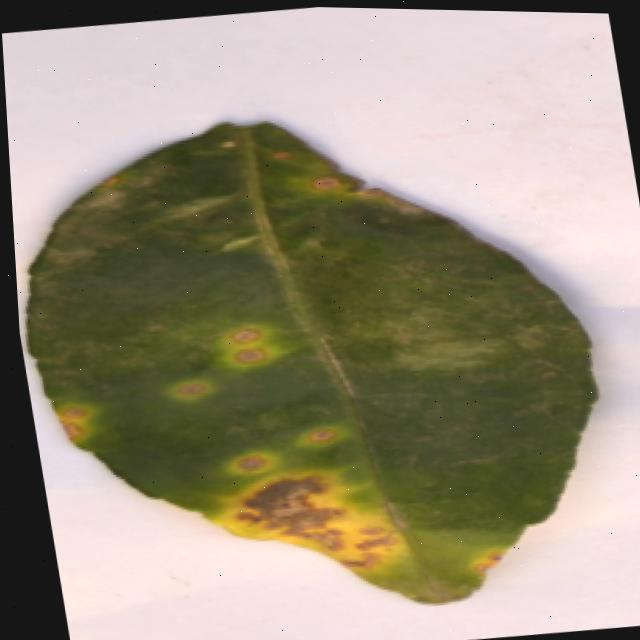canker: (29, 121, 595, 597), (186, 410, 421, 582), (153, 306, 284, 424), (39, 381, 122, 470), (456, 529, 522, 592), (296, 168, 352, 204)
